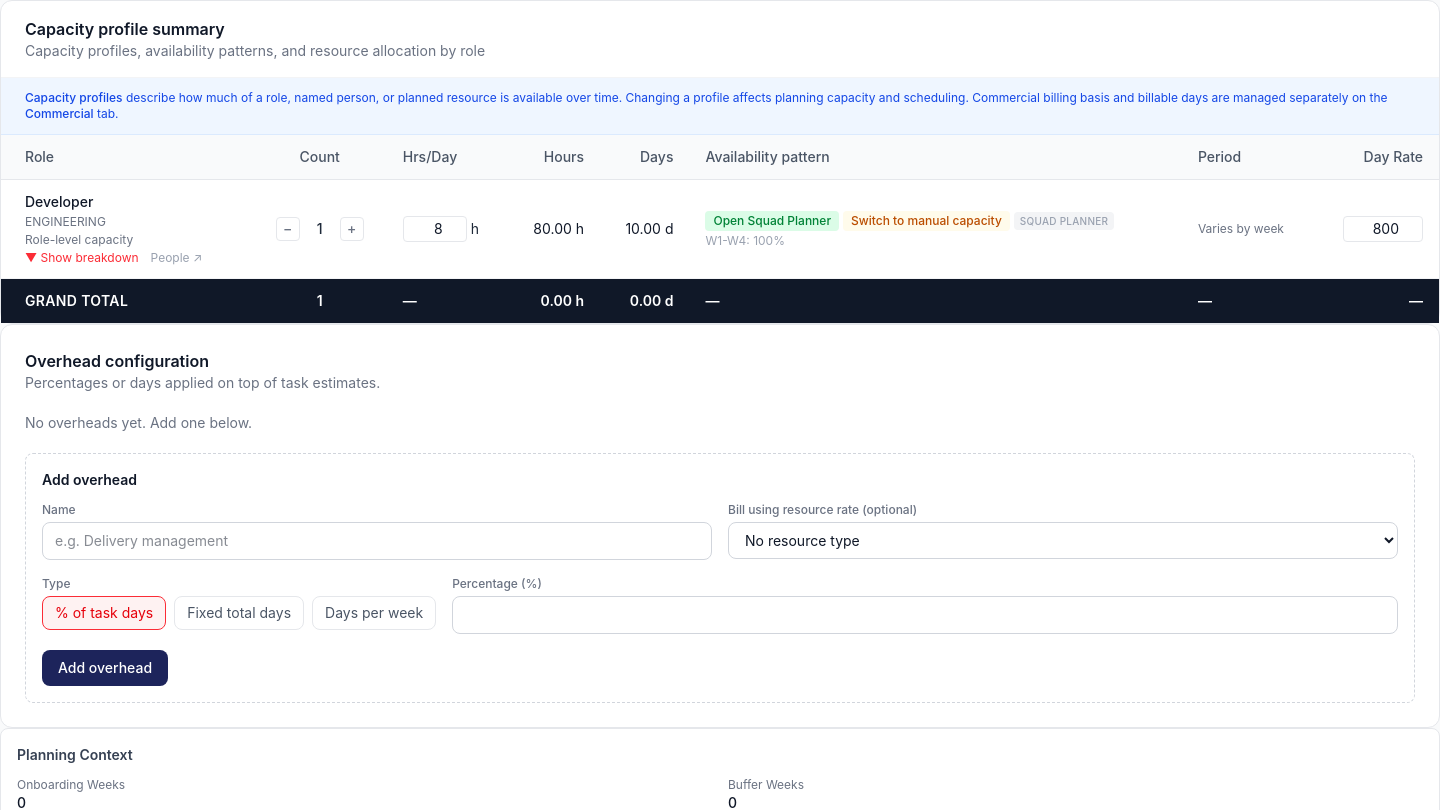
Test: Switch to manual capacity › Dialog focus and keyboard lifecycle › confirms confirm button receives initial focus when dialog opens
Step 1. Click the button titled "Transfer this role" → (926, 220), box [843,210,1010,230]
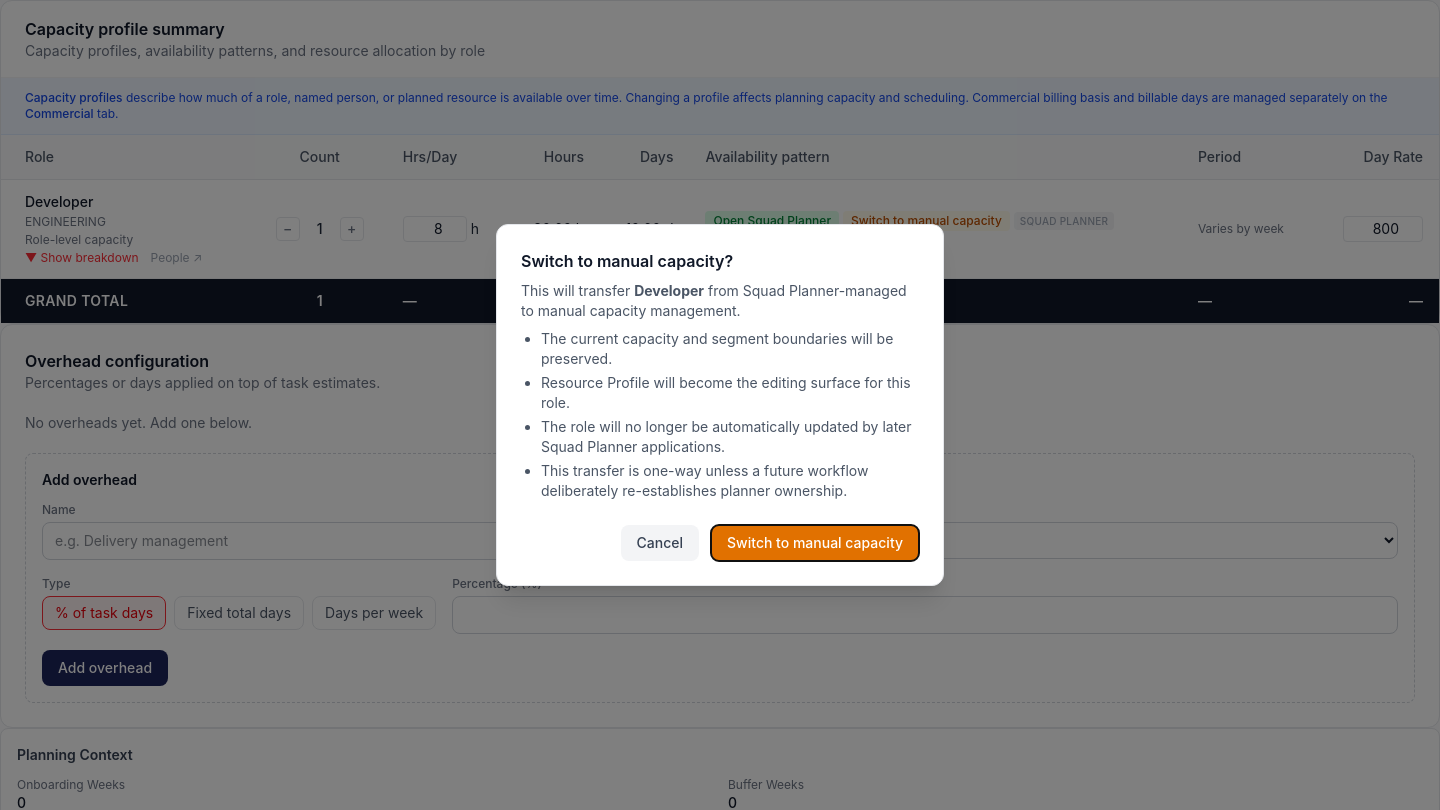
Expected: the dialog is shown
